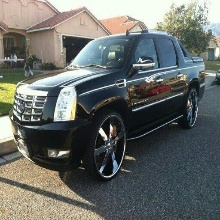no damage: (9, 31, 207, 182)
